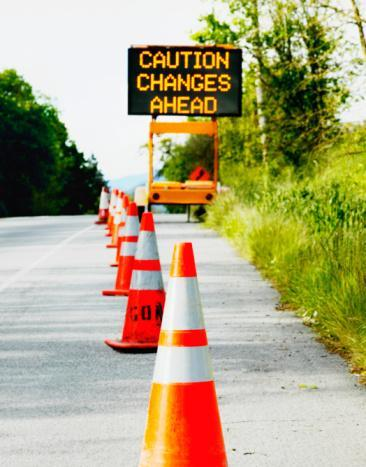Cone: (137, 241, 230, 467), (112, 212, 174, 358), (110, 201, 148, 299), (111, 194, 129, 249)
